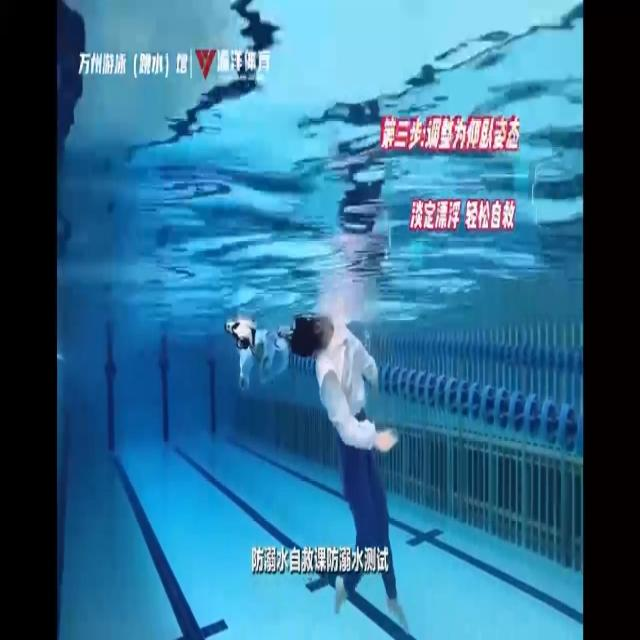Drowning: (288, 310, 412, 632)
